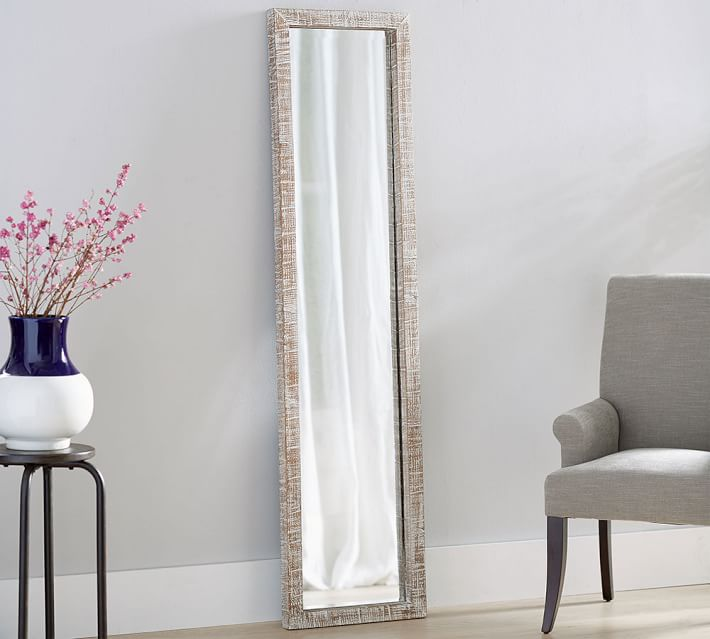Nonrec_Glass: (216, 1, 442, 627)
